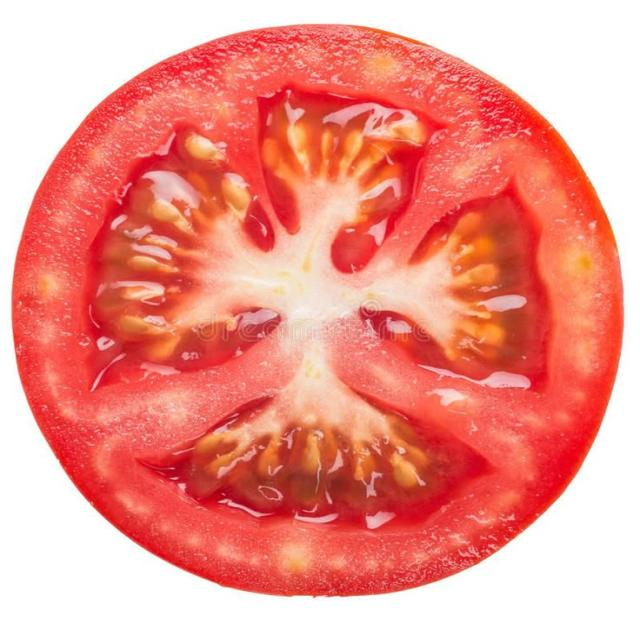sliced tomatoe: (14, 27, 621, 594)
